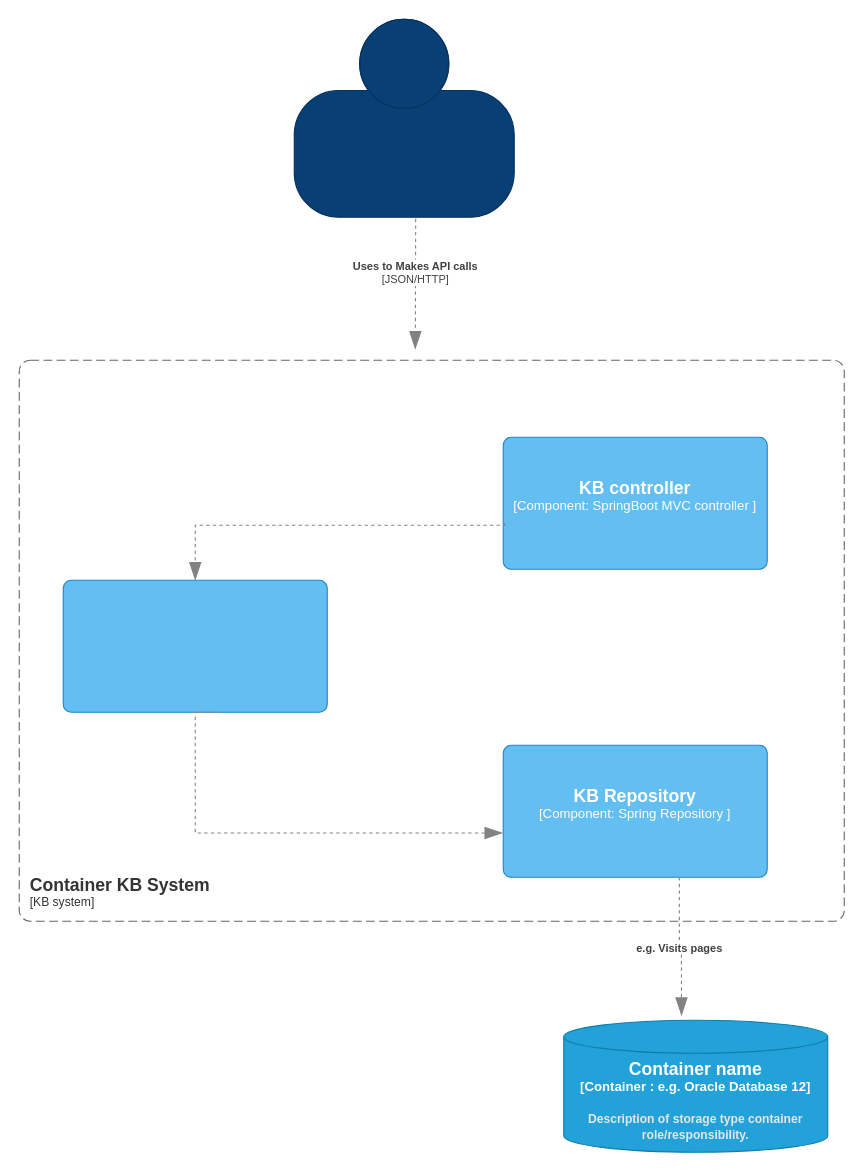
This 864x1172 diagram has some shape labels left out. Here are the shapes that lost their labels. From the top down, the centre of each, then its label:
At pixel 403 117: "KB User [User] An a KB user".
At pixel 194 645: "KB servicer [Component: Spring Service]".
